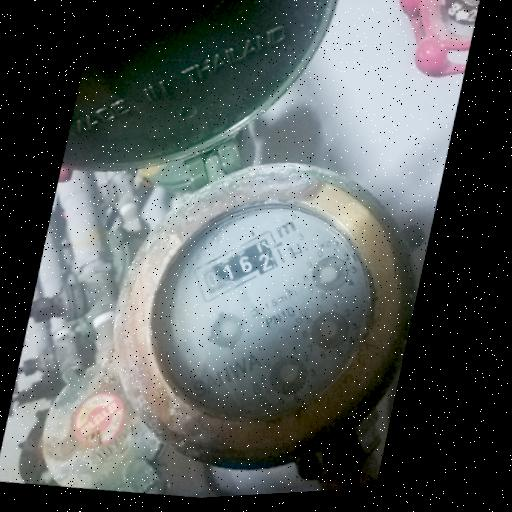0: (196, 262, 230, 298)
1: (241, 235, 284, 280), (210, 253, 246, 290)
6: (226, 244, 263, 282)
border_water_meter_number: (184, 218, 293, 315)
